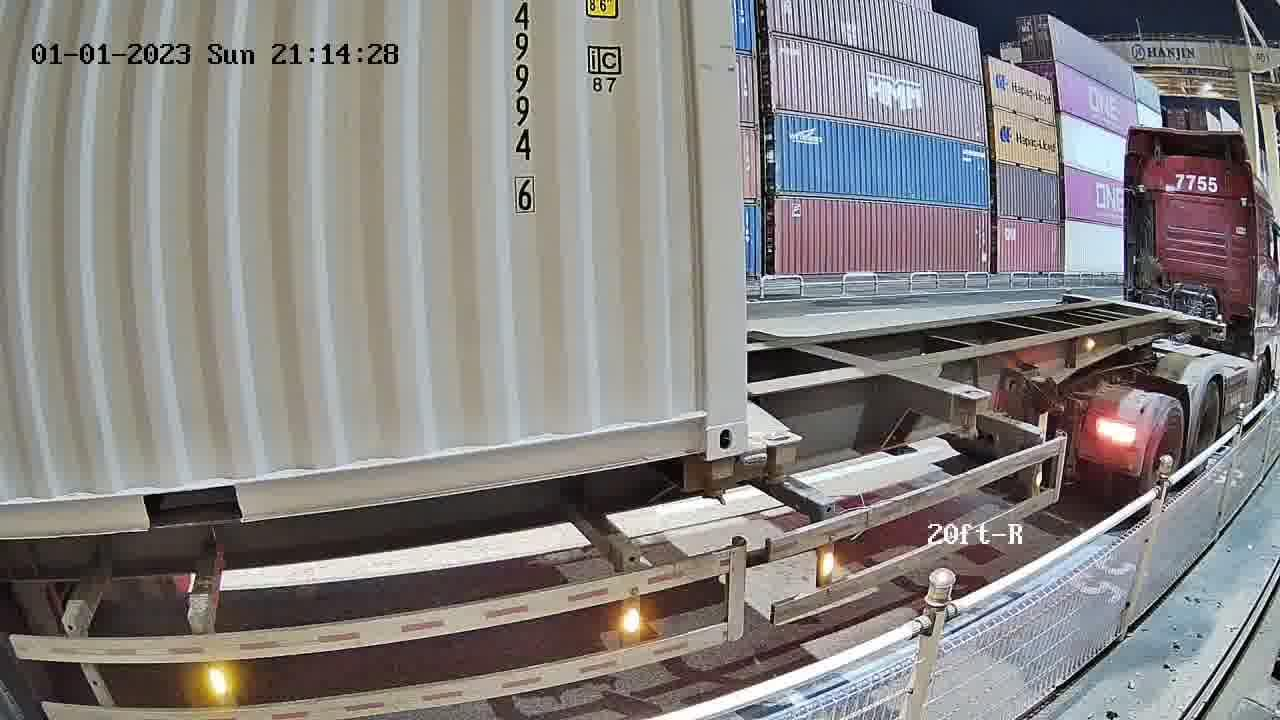Cone: (699, 454, 746, 503), (760, 432, 797, 488)
Hole_R: (673, 377, 749, 457)
Tire: (1147, 404, 1186, 480), (1191, 385, 1223, 457)
